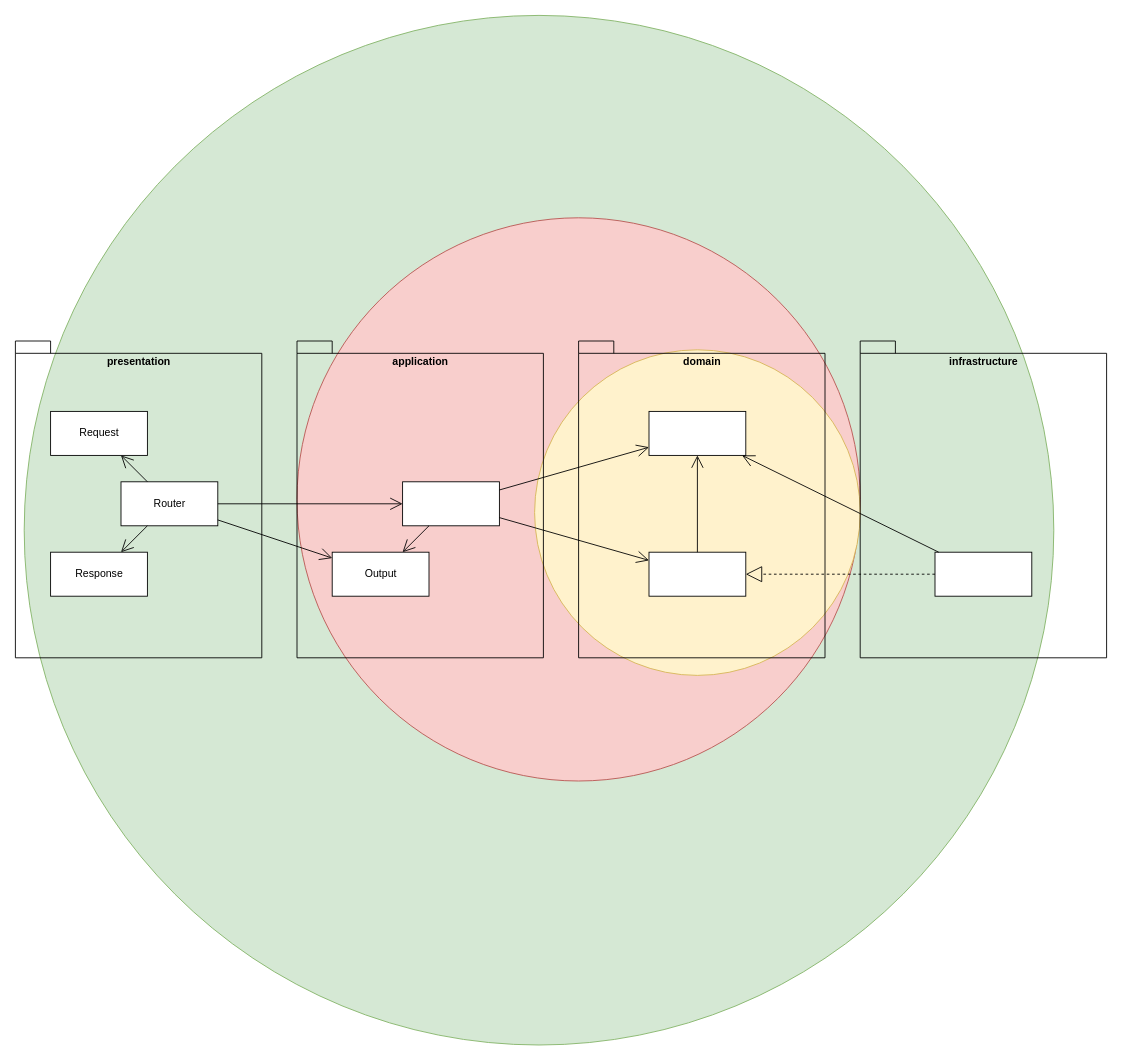
This 1122x1060 diagram has some shape labels left out. The shapes that lost their labels are listed below. From the top down, each one's centre as x and y in pixels, then its label:
At [697,433]: "Model".
At [450,503]: "Service".
At [697,573]: "<< interface >> Repository".
At [983,573]: "MySQL Repository".
